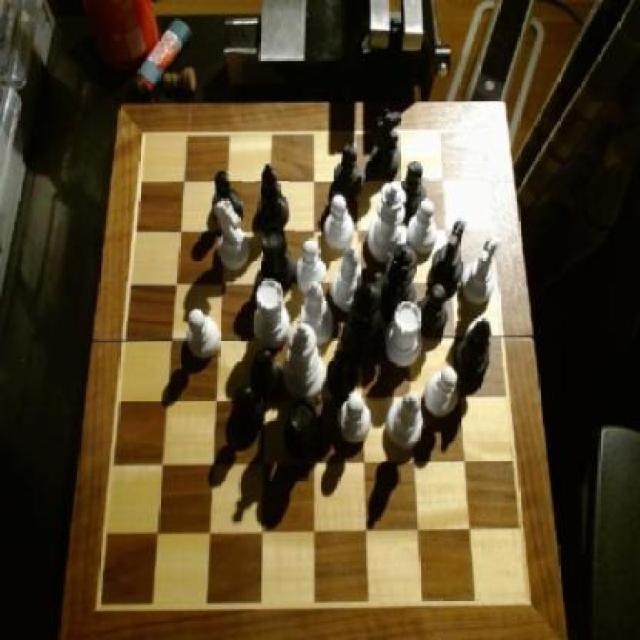bishop: (455, 318, 494, 384), (257, 164, 290, 232)
black-bishop: (343, 274, 385, 363)
black-king: (369, 105, 404, 179), (434, 217, 468, 286)
black-knight: (334, 144, 364, 202), (418, 283, 450, 332), (212, 172, 242, 221), (403, 158, 427, 216), (328, 352, 358, 398), (252, 352, 281, 396), (237, 386, 265, 430)
black-pawn: (383, 240, 419, 316)
black-queen: (283, 394, 325, 462), (260, 226, 297, 291)
black-rook: (300, 282, 335, 346), (388, 389, 425, 449), (331, 243, 362, 310)
white-bishop: (368, 180, 409, 262)
white-king: (462, 238, 501, 311), (214, 196, 251, 268)
white-knight: (186, 306, 223, 359), (425, 365, 459, 420), (322, 194, 354, 250), (294, 238, 326, 292), (338, 394, 372, 439), (408, 197, 436, 250)
white-pawn: (283, 322, 325, 401)
white-queen: (383, 302, 424, 366), (254, 279, 291, 346)
